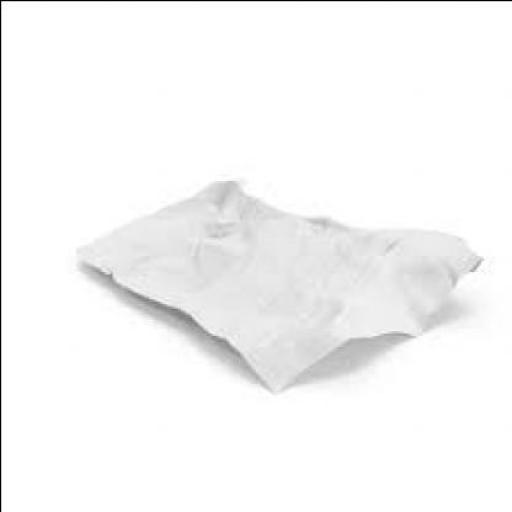paper: (80, 175, 485, 387)
